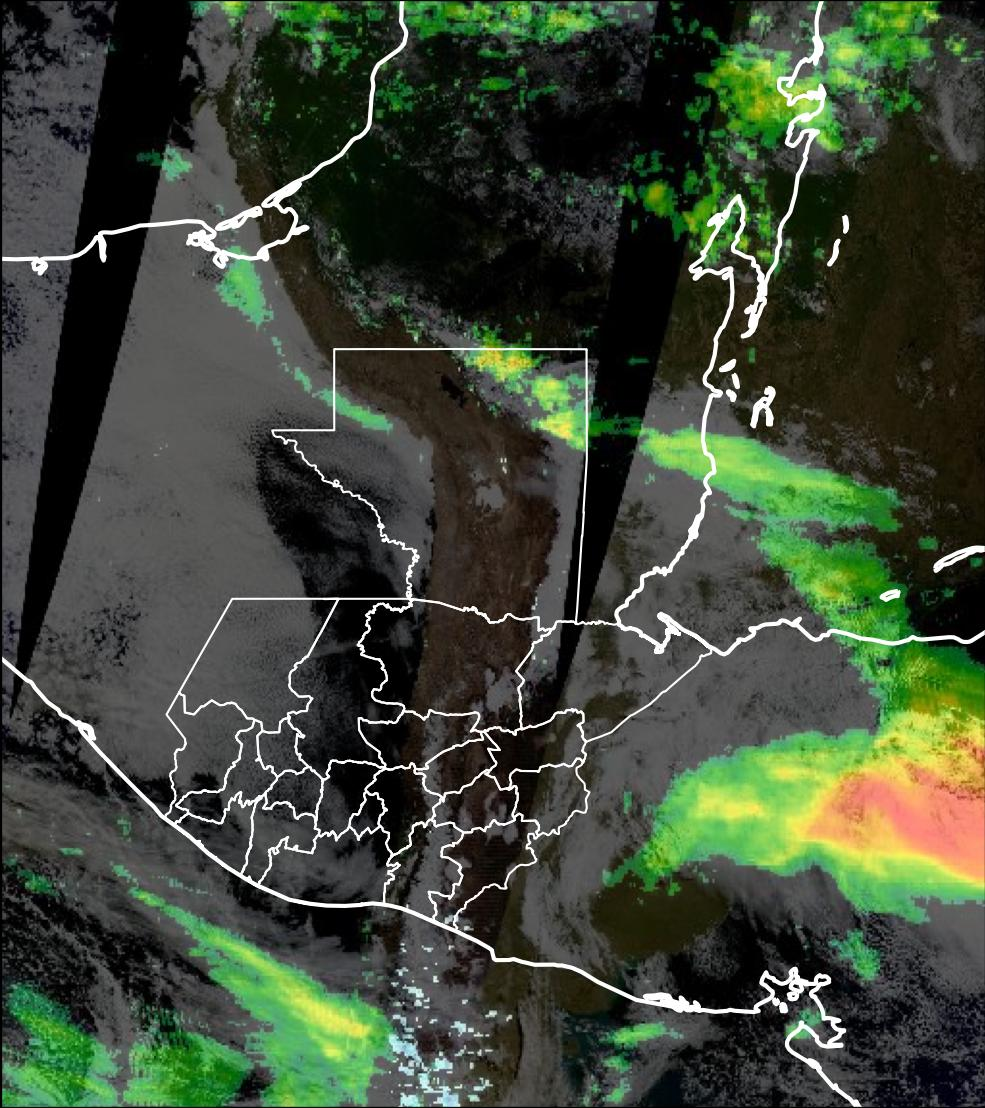precipitacion: (775, 689, 984, 903)
